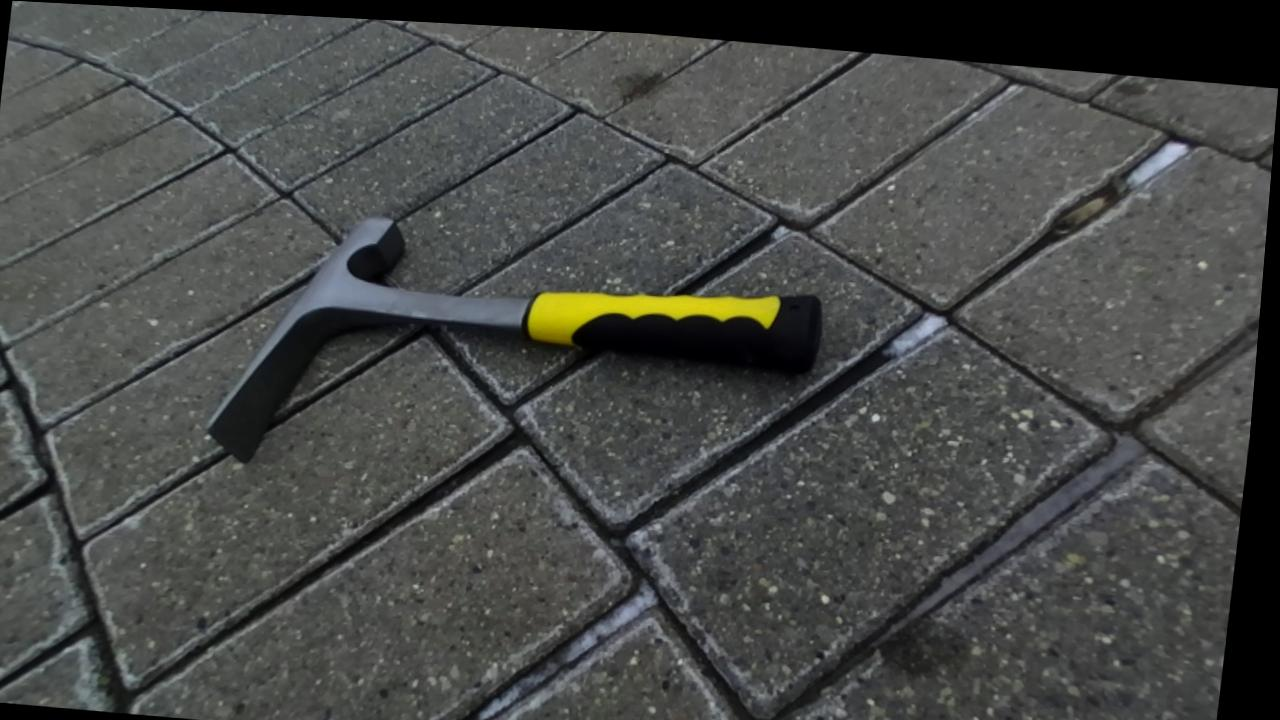pick: (208, 217, 821, 461)
